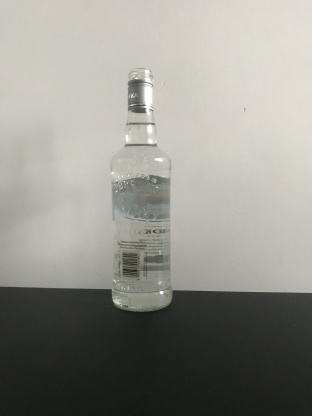nakretka: (126, 65, 154, 114)
